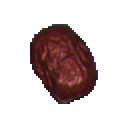gd: (19, 11, 115, 113)
